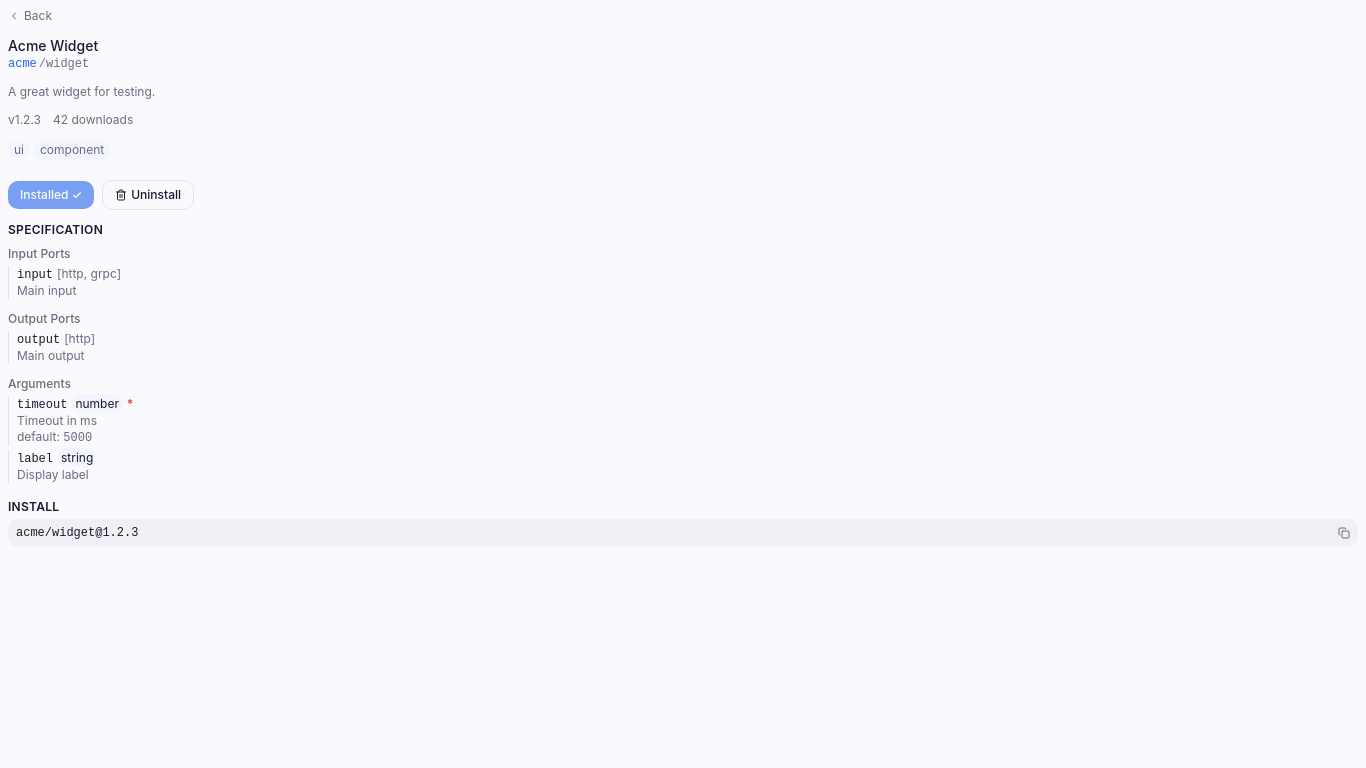
Test: NodeDefDetailView › uninstall flow › clicking Uninstall opens a confirm dialog
Step 1. Click the button with test id "detail-uninstall-btn" → (148, 195), box [102,180,194,210]
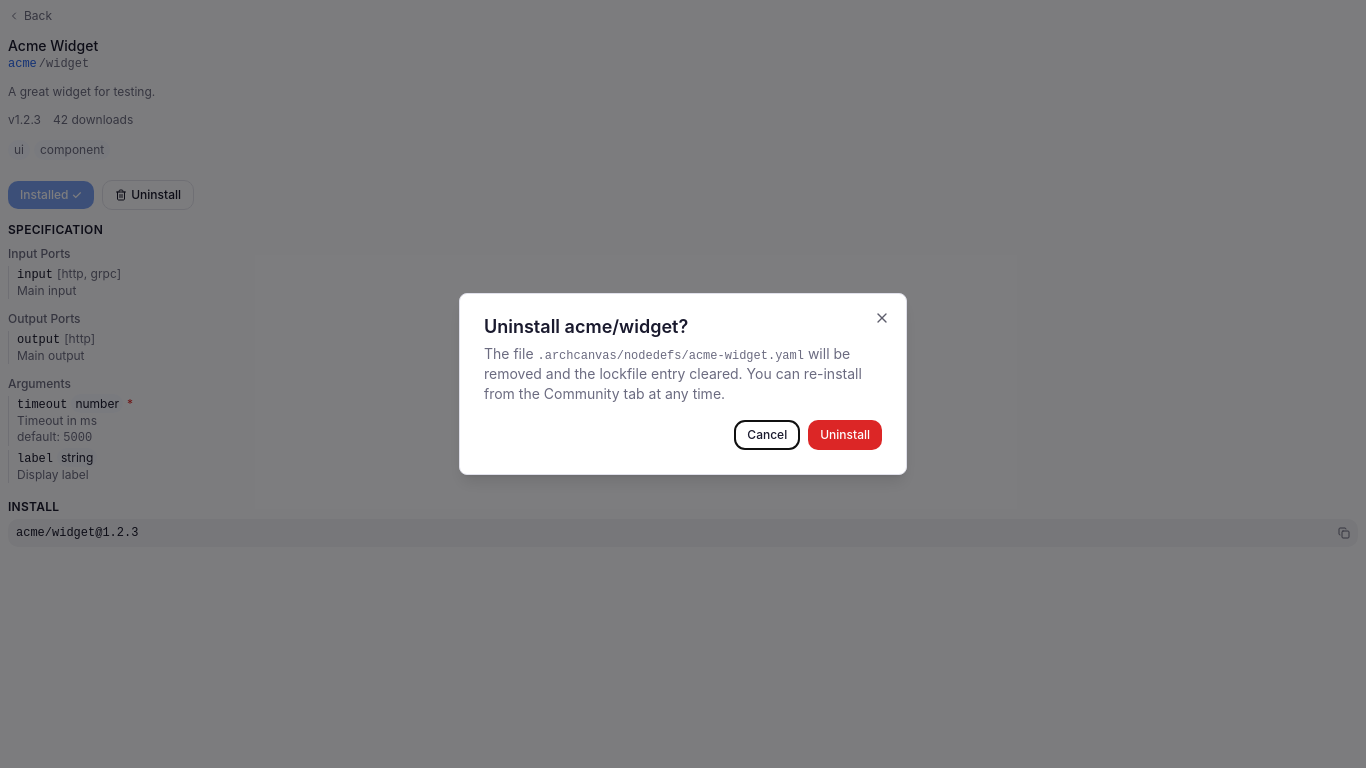
Result: the dialog with test id "uninstall-confirm-dialog" is shown at [459,293,907,475]
Result: the button with test id "uninstall-confirm-btn" is shown at [808,420,882,450]
